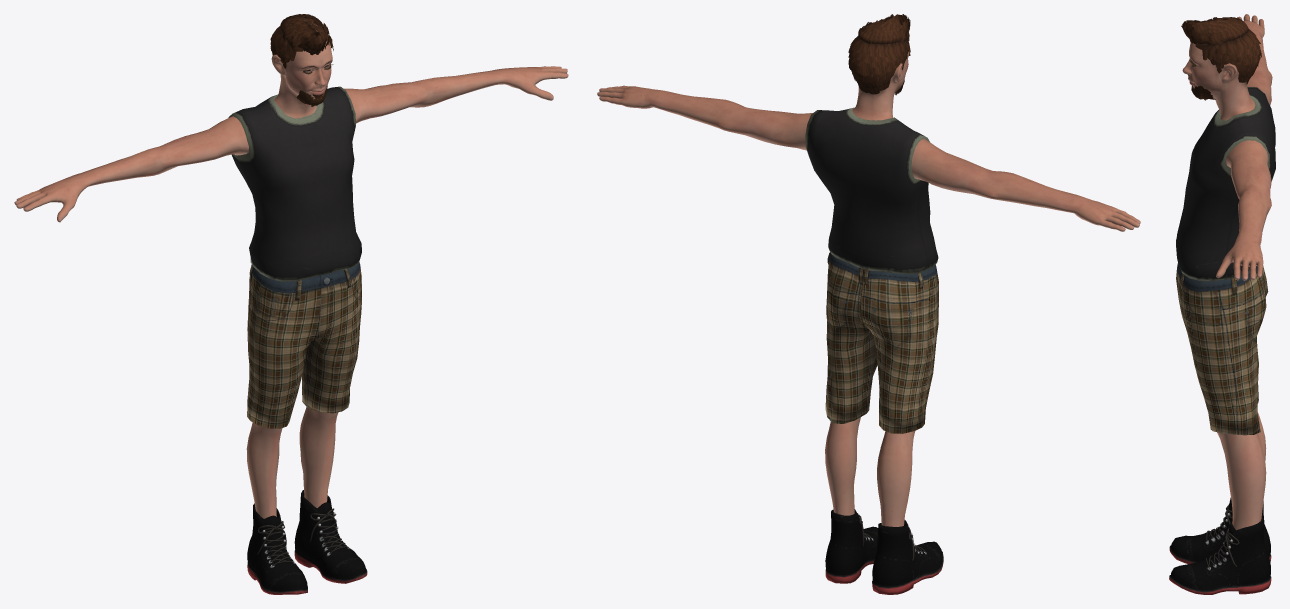
File: person.glb
3 renders of one model, left to right at view 1: azimuth 30°, elevation 25°; view 2: azimuth 150°, elevation 25°; view 3: azimuth 270°, elevation 25°, orthographic.
Visible parts, largest first — view 1: Object_2, Object_3; view 2: Object_2, Object_3; view 3: Object_2, Object_3.
Part boxes in pixels (x1,y1,x2,y2): Object_2: [14, 19, 568, 518]; Object_3: [228, 14, 367, 594]; Object_2: [597, 37, 1140, 526]; Object_3: [805, 14, 943, 594]; Object_2: [1176, 14, 1272, 530]; Object_3: [1169, 17, 1275, 594].
Bounding box in the file's own units: 187 × 181 × 31.6.
Materials: 1 (1 with a texture image).
